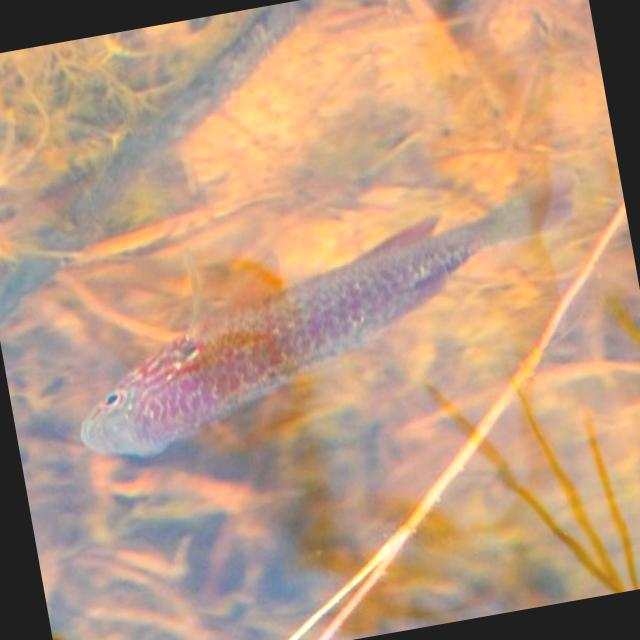Gunes Levregi: (39, 137, 630, 470)
